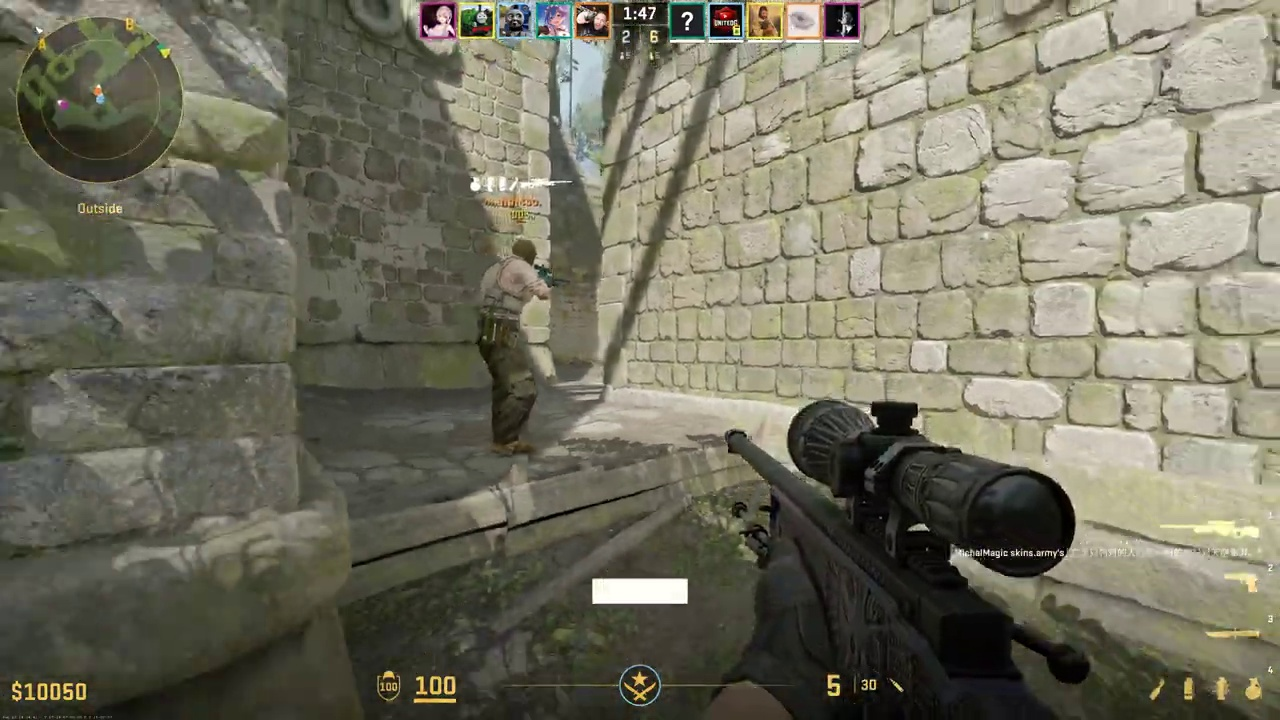Terrorist: (477, 239, 549, 457)
